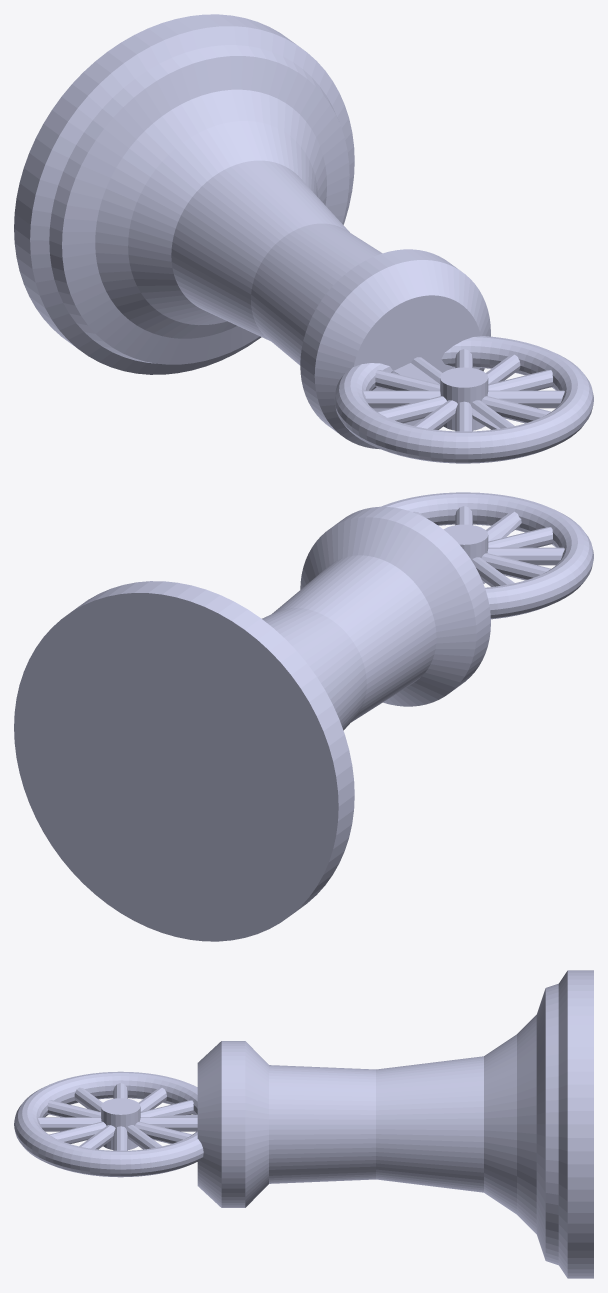
The model's file is maharathi_chandra.glb.
The picture shows the model from 3 angles, top to bottom: view 1: azimuth 30°, elevation 25°; view 2: azimuth 150°, elevation 25°; view 3: azimuth 270°, elevation 25°; orthographic projection. The views are drawn at different scales.
Visible parts, largest first — view 1: geometry_0; view 2: geometry_0; view 3: geometry_0.
Part boxes in pixels (x1=…): geometry_0: x1=14, y1=14, x2=593, y2=463; geometry_0: x1=14, y1=492, x2=593, y2=941; geometry_0: x1=14, y1=970, x2=593, y2=1278.
Size of the model in its own units: 0.028 by 0.028 by 0.0527.
